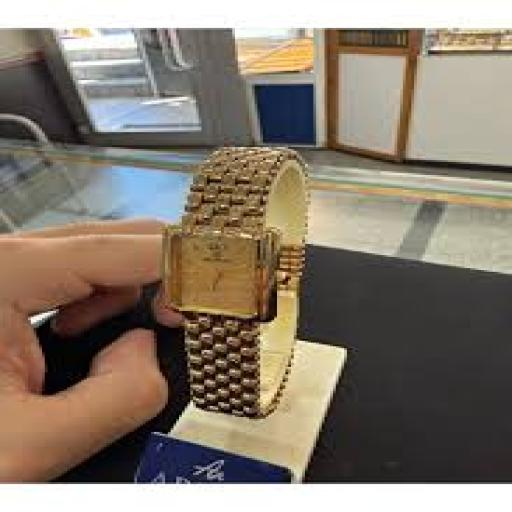KolSaati: (62, 90, 370, 414)
